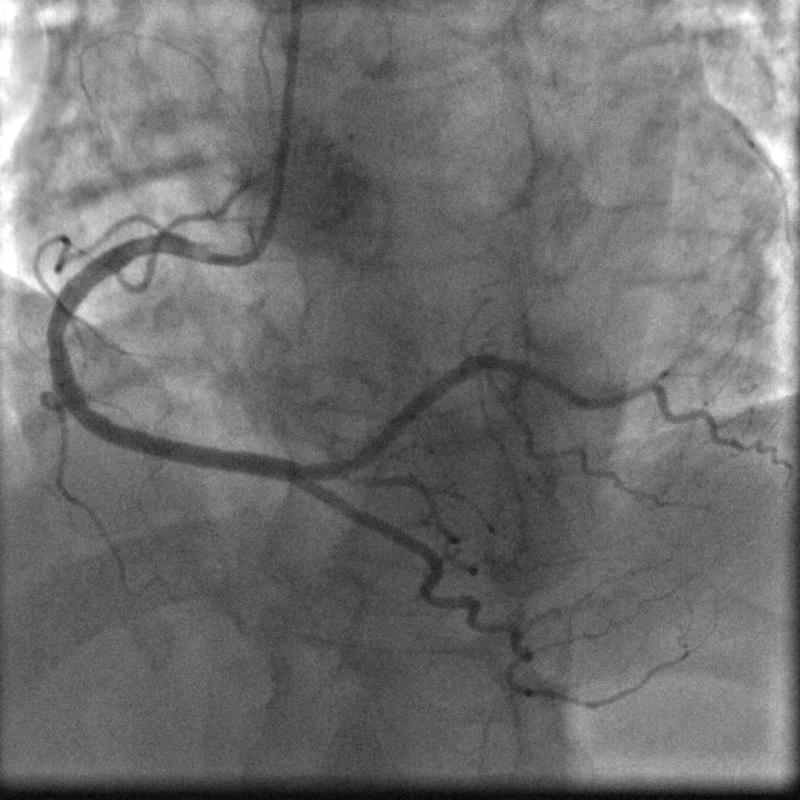Stenosis: (39, 312, 76, 360)
